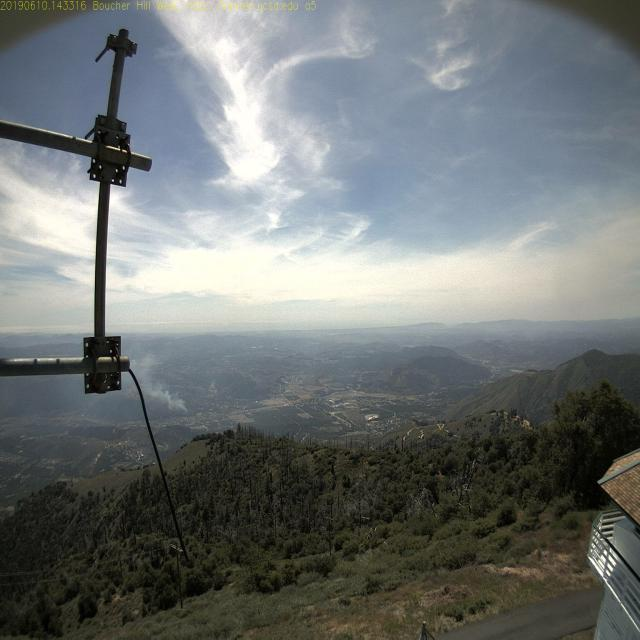smoke: (174, 390, 196, 420)
